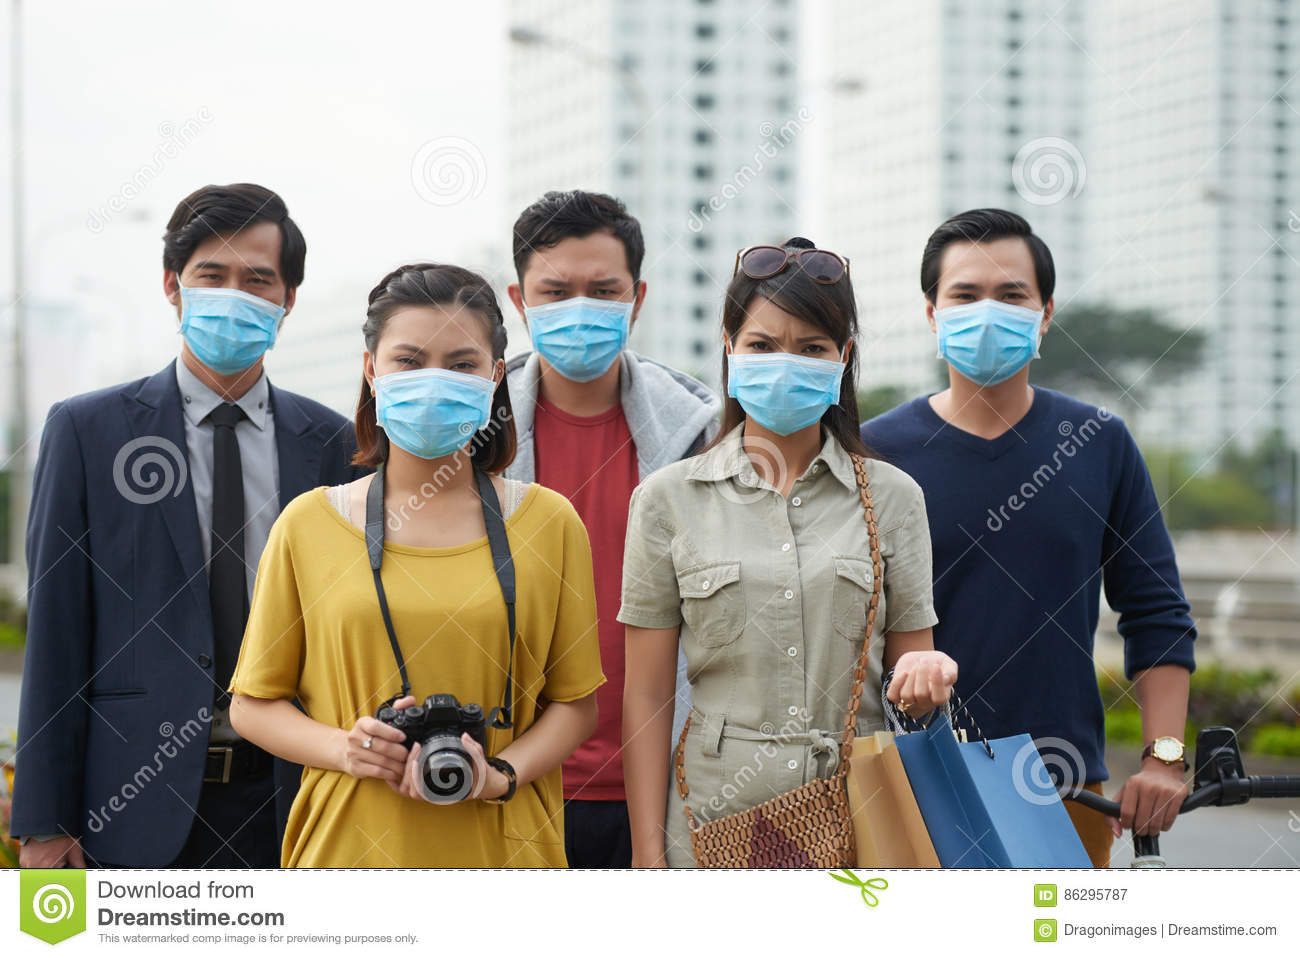mask: (376, 370, 496, 463), (728, 353, 844, 436), (931, 302, 1044, 387), (178, 284, 282, 374), (528, 297, 632, 381)
